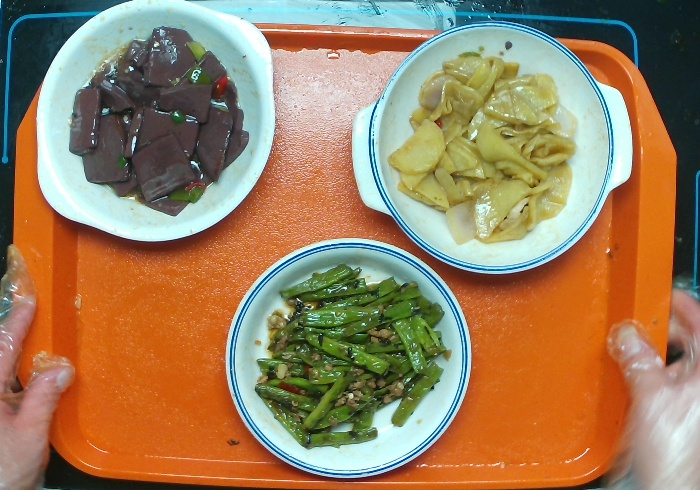HZYJPL-Dai_Er_Bai_Yuan_Wan: (33, 1, 278, 245)
HZYJPL-Lan_Bian_Dai_Er_Wan: (350, 19, 636, 278)
HZYJPL-Lan_Bian_Yuan_Die: (223, 236, 474, 482)
